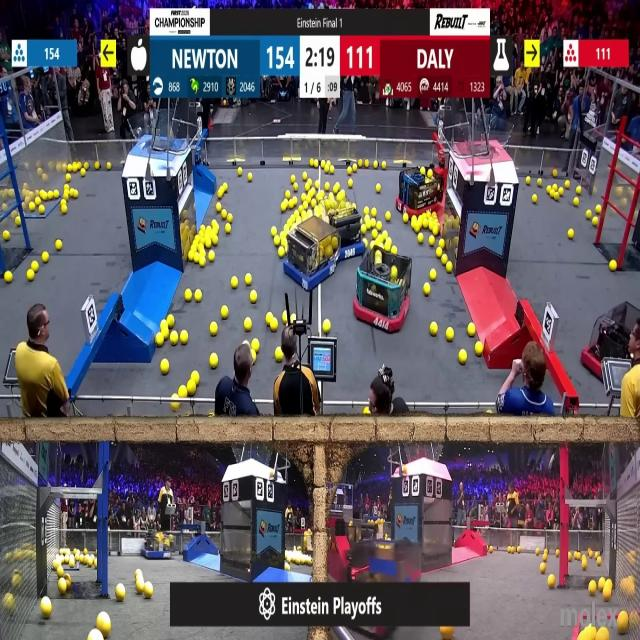ball_ground: (41, 597, 52, 618), (144, 583, 154, 600), (115, 585, 124, 602), (210, 352, 218, 368), (171, 396, 180, 410), (598, 628, 608, 640), (180, 332, 188, 346), (171, 332, 179, 346), (276, 348, 284, 362), (467, 322, 475, 336), (60, 580, 68, 594), (187, 382, 195, 396), (210, 321, 218, 334), (220, 306, 228, 319), (162, 360, 170, 373), (323, 320, 331, 333), (155, 335, 163, 348), (460, 350, 467, 364), (475, 343, 482, 357), (429, 321, 436, 335), (471, 326, 478, 340), (194, 289, 202, 301), (136, 583, 144, 595), (603, 589, 611, 601), (179, 387, 187, 399), (447, 327, 454, 340), (28, 271, 36, 282), (4, 273, 12, 284), (168, 316, 175, 328), (250, 290, 257, 302), (609, 261, 616, 273), (243, 274, 250, 286), (70, 188, 78, 198), (190, 370, 198, 380), (590, 582, 596, 595), (252, 341, 259, 352), (245, 274, 252, 285), (232, 277, 238, 289), (429, 270, 435, 282), (424, 284, 430, 296), (244, 320, 250, 332), (185, 288, 191, 300), (208, 251, 215, 261), (42, 252, 49, 262), (187, 251, 194, 261), (289, 200, 296, 210), (206, 238, 213, 248), (57, 240, 63, 251), (272, 320, 278, 331), (231, 279, 237, 290), (200, 258, 207, 267), (447, 264, 453, 274), (32, 262, 38, 272), (593, 216, 599, 226), (370, 208, 376, 218), (59, 566, 65, 576), (4, 232, 10, 242), (573, 198, 579, 208), (58, 238, 64, 248), (192, 252, 198, 262), (290, 314, 296, 324), (267, 313, 273, 323), (283, 312, 288, 324), (428, 237, 435, 245), (525, 177, 532, 185), (14, 217, 20, 226), (274, 237, 280, 246), (442, 254, 448, 263), (224, 223, 230, 232), (435, 248, 441, 257), (440, 239, 446, 248), (540, 563, 546, 572), (598, 576, 604, 585), (568, 230, 573, 240), (377, 183, 382, 193), (279, 248, 284, 258), (363, 409, 369, 417), (64, 190, 70, 198), (66, 174, 72, 182), (311, 200, 317, 208), (62, 206, 68, 214), (422, 219, 428, 227), (418, 236, 424, 244), (382, 232, 388, 240), (221, 184, 227, 192), (55, 189, 61, 197), (46, 190, 52, 198), (95, 163, 101, 171), (573, 553, 579, 561), (403, 214, 408, 223), (392, 246, 397, 255), (377, 220, 382, 229), (587, 210, 592, 219), (371, 231, 376, 240), (306, 181, 311, 190), (596, 206, 602, 213), (545, 185, 551, 192), (536, 178, 541, 186), (364, 208, 369, 216), (216, 204, 221, 212), (386, 211, 390, 221), (553, 170, 558, 178), (217, 189, 222, 197), (532, 194, 537, 202), (554, 190, 559, 198), (597, 580, 602, 588), (248, 173, 252, 182), (541, 555, 547, 561), (568, 553, 572, 562), (80, 170, 85, 177), (107, 164, 112, 171), (83, 164, 88, 171), (137, 568, 142, 575), (40, 206, 44, 214), (348, 167, 352, 175), (576, 186, 580, 194), (352, 165, 356, 173), (489, 545, 494, 551), (209, 412, 214, 418), (65, 184, 70, 190), (507, 545, 512, 551), (201, 224, 205, 231), (329, 167, 333, 174), (227, 214, 231, 221), (554, 183, 558, 190), (291, 176, 295, 183), (582, 560, 585, 568), (557, 550, 560, 557), (567, 184, 570, 190)
goal: (460, 117, 516, 158), (129, 118, 186, 152)
robot_blue: (284, 219, 340, 291), (332, 211, 366, 262), (142, 530, 174, 558)
robot_red: (352, 245, 408, 334), (398, 164, 444, 213)
